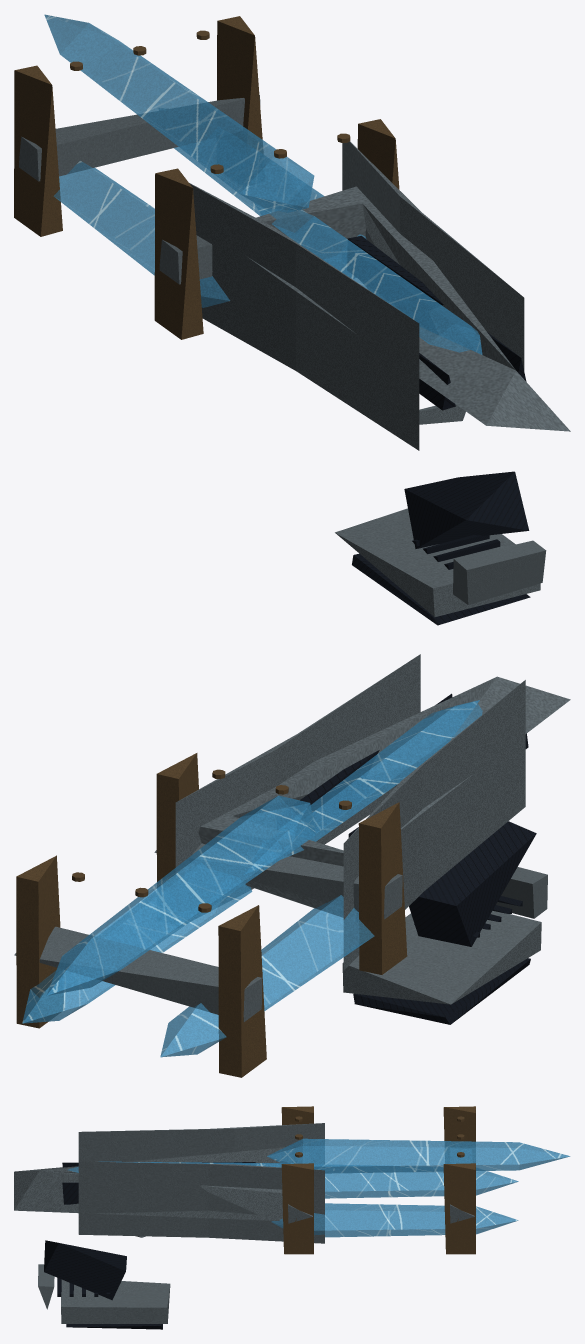
The model's file is rime-focus-stowed-lod2.glb.
3 renders of one model, top to bottom at view 1: azimuth 30°, elevation 25°; view 2: azimuth 150°, elevation 25°; view 3: azimuth 270°, elevation 25°, orthographic. The views are drawn at different scales.
Parts seen in each view (by area): view 1: Swept receiver fin, Sculpted open silver receiver, Independent ice cartridge, Swept receiver fin.001, Cartridge clamp bridge.001, Rear dorsal ice conduit, Angled slate pistol grip, Hip docking socket, Locking cartridge side bracket, Locking cartridge side bracket.002, Independent ice cartridge.001, Silver flared grip heel (+6 smaller); view 2: Swept receiver fin, Independent ice cartridge, Sculpted open silver receiver, Swept receiver fin.001, Hip docking socket, Independent ice cartridge.001, Cartridge clamp bridge.001, Rear dorsal ice conduit, Angled slate pistol grip, Locking cartridge side bracket.002, Locking cartridge side bracket, Locking cartridge side bracket.003 (+6 smaller); view 3: Swept receiver fin.001, Independent ice cartridge, Swept receiver fin, Sculpted open silver receiver, Independent ice cartridge.002, Hip docking socket, Independent ice cartridge.001, Angled slate pistol grip, Locking cartridge side bracket.003, Locking cartridge side bracket.001, Locking cartridge side bracket.002, Locking cartridge side bracket (+6 smaller).
Part boxes in pixels (<box>): Swept receiver fin: <box>189,183,419,450</box>; Sculpted open silver receiver: <box>200,186,570,431</box>; Independent ice cartridge: <box>44,14,314,212</box>; Swept receiver fin.001: <box>342,141,524,370</box>; Cartridge clamp bridge.001: <box>19,95,260,181</box>; Rear dorsal ice conduit: <box>242,182,482,354</box>; Angled slate pistol grip: <box>404,471,529,548</box>; Hip docking socket: <box>335,508,540,617</box>; Locking cartridge side bracket: <box>154,168,203,339</box>; Locking cartridge side bracket.002: <box>14,65,62,236</box>; Independent ice cartridge.001: <box>53,160,229,307</box>; Silver flared grip heel: <box>453,540,546,604</box>; Swept receiver fin: <box>343,680,525,970</box>; Independent ice cartridge: <box>46,795,315,995</box>; Sculpted open silver receiver: <box>198,676,570,922</box>; Swept receiver fin.001: <box>175,654,420,917</box>; Hip docking socket: <box>342,911,541,1004</box>; Independent ice cartridge.001: <box>160,895,374,1057</box>; Cartridge clamp bridge.001: <box>14,926,262,1021</box>; Rear dorsal ice conduit: <box>243,700,482,874</box>; Angled slate pistol grip: <box>409,821,536,946</box>; Locking cartridge side bracket.002: <box>218,905,266,1077</box>; Locking cartridge side bracket: <box>358,802,407,974</box>; Locking cartridge side bracket.003: <box>16,855,63,1028</box>; Swept receiver fin.001: <box>78,1161,324,1243</box>; Independent ice cartridge: <box>267,1138,570,1173</box>; Swept receiver fin: <box>78,1123,324,1163</box>; Sculpted open silver receiver: <box>14,1147,296,1220</box>; Independent ice cartridge.002: <box>271,1203,518,1237</box>; Hip docking socket: <box>61,1279,170,1323</box>; Independent ice cartridge.001: <box>325,1171,518,1198</box>; Angled slate pistol grip: <box>44,1240,126,1300</box>; Locking cartridge side bracket.003: <box>443,1163,475,1254</box>; Locking cartridge side bracket.001: <box>281,1163,313,1254</box>; Locking cartridge side bracket.002: <box>443,1106,475,1163</box>; Locking cartridge side bracket: <box>281,1106,313,1125</box>.
Bounding box in the file's own units: 0.235 × 0.3083 × 0.86.
Materials: 4 (4 with a texture image).
